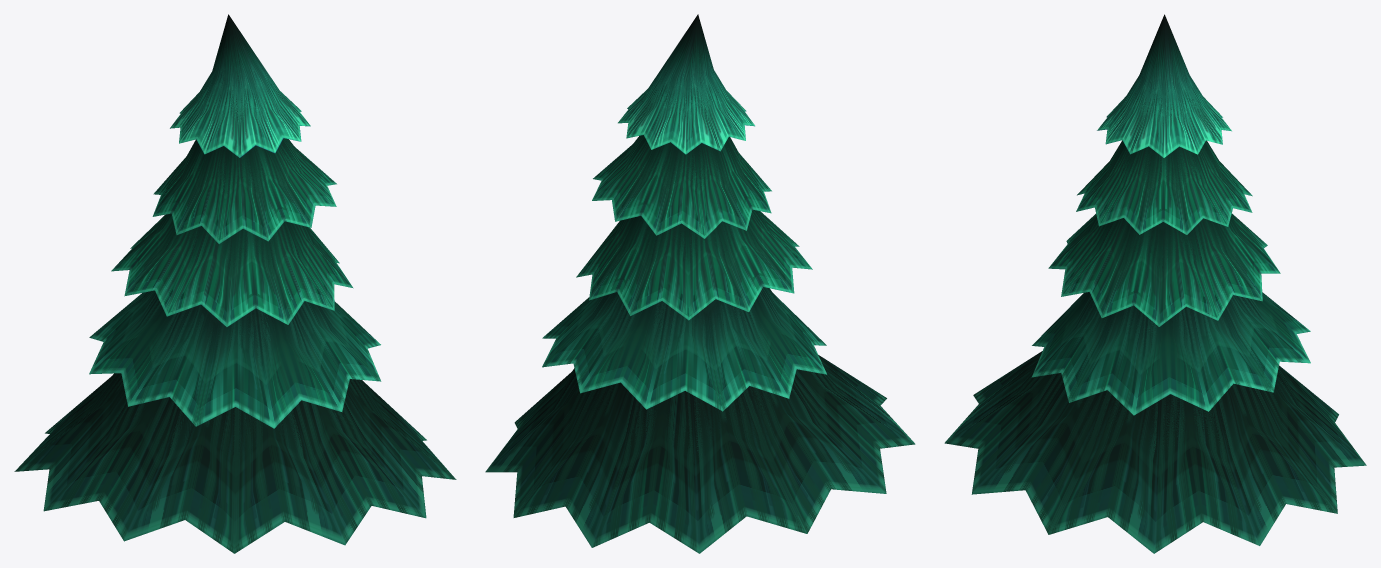
Rendered from FirTree.fbx.
3 renders of one model, left to right at view 1: azimuth 30°, elevation 25°; view 2: azimuth 150°, elevation 25°; view 3: azimuth 270°, elevation 25°, orthographic. The views are drawn at different scales.
Visible parts, largest first — view 1: Needles; view 2: Needles; view 3: Needles.
Boxes of the visible parts, box(x1,y1,x2,y2) form: Needles: box(14, 14, 456, 553); Needles: box(485, 14, 915, 553); Needles: box(944, 14, 1366, 553).
Bounding box in the file's own units: 515 × 650 × 515.
2 materials, 2 textured.
